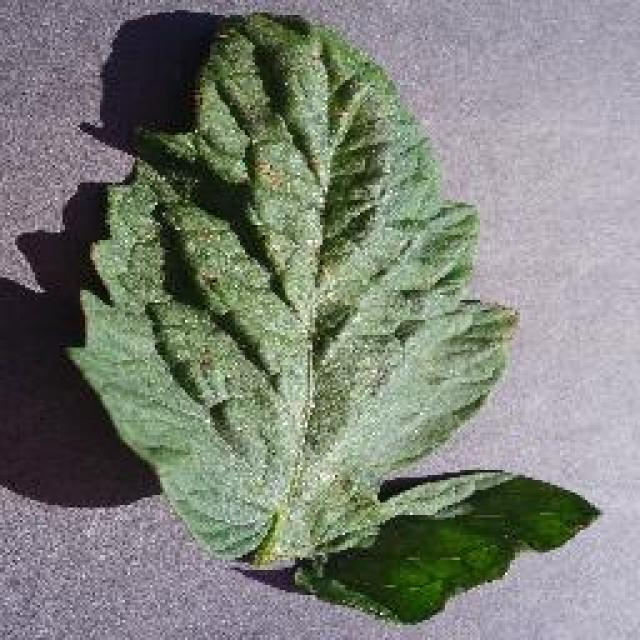Tomato___Target_Spot: (68, 12, 598, 622)
